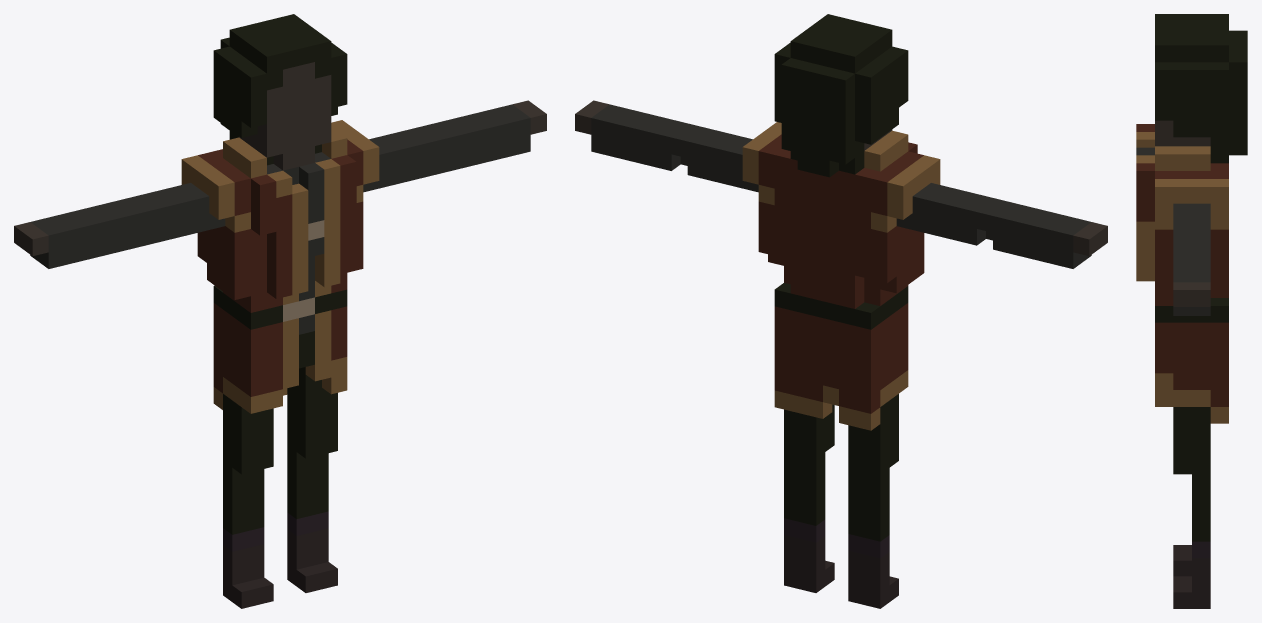
File: TPose_Character05.glb
The picture shows the model from 3 angles, left to right: view 1: azimuth 30°, elevation 25°; view 2: azimuth 150°, elevation 25°; view 3: azimuth 270°, elevation 25°; orthographic projection.
Visible parts, largest first — view 1: Character05; view 2: Character05; view 3: Character05.
Boxes of the visible parts, x1,y1,x2,y2 form: Character05: (14,14,546,608); Character05: (575,14,1107,608); Character05: (1136,14,1247,608).
Bounding box in the file's own units: 1.94 × 2 × 0.3635.
Materials: 1 (1 with a texture image).
